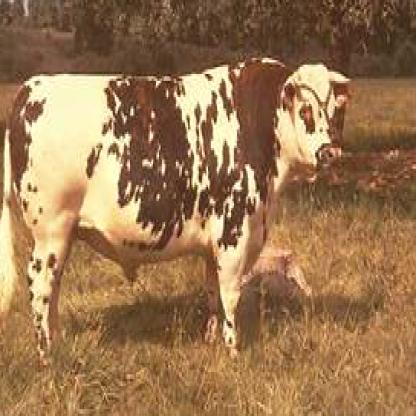cow: (1, 58, 352, 358)
